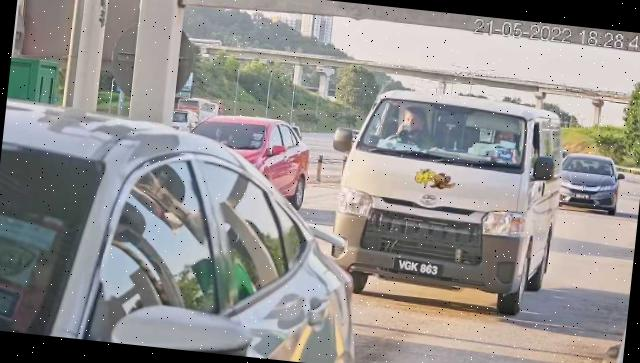License_Plate: (396, 254, 448, 284)
van: (328, 85, 569, 321)
